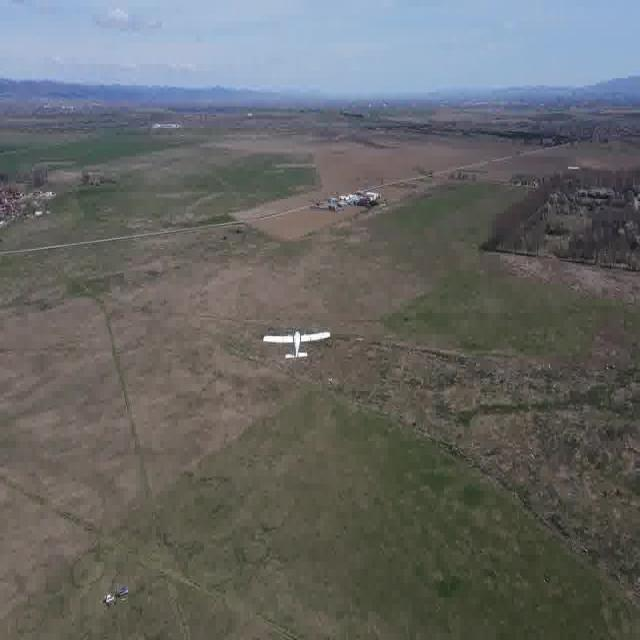iha: (296, 319, 298, 369)
